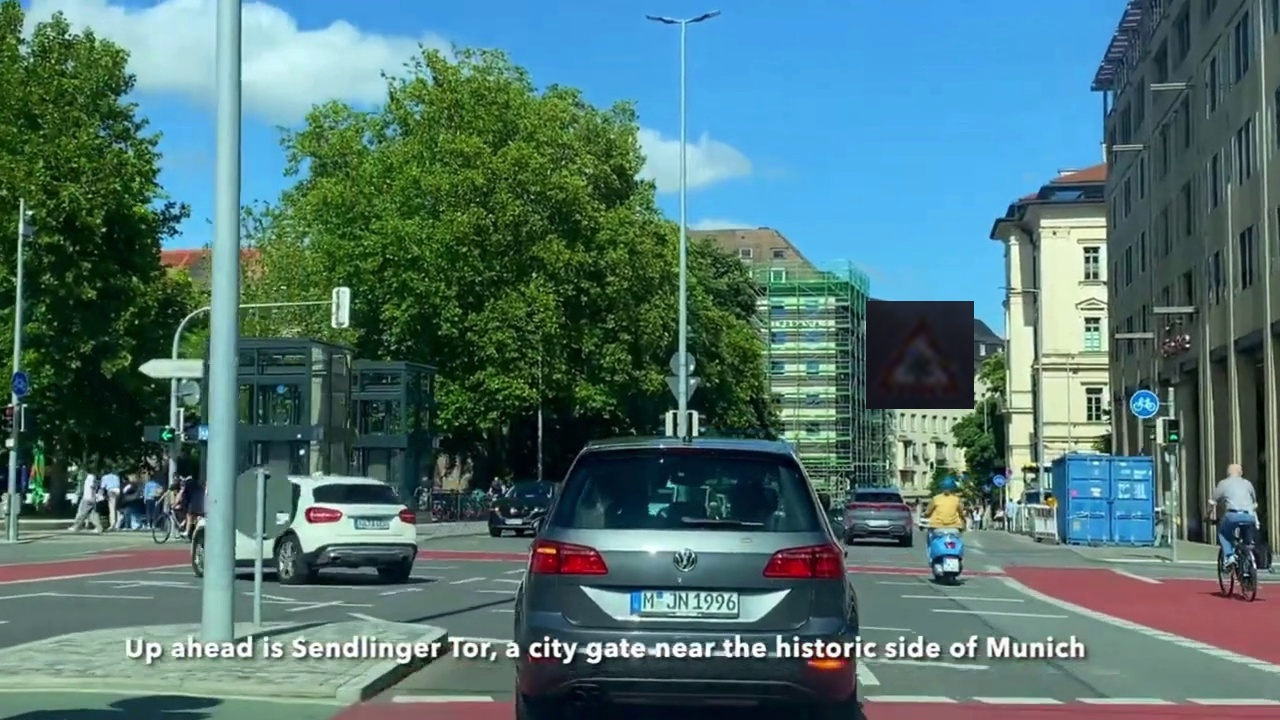Ice/snow: (866, 301, 974, 409)
